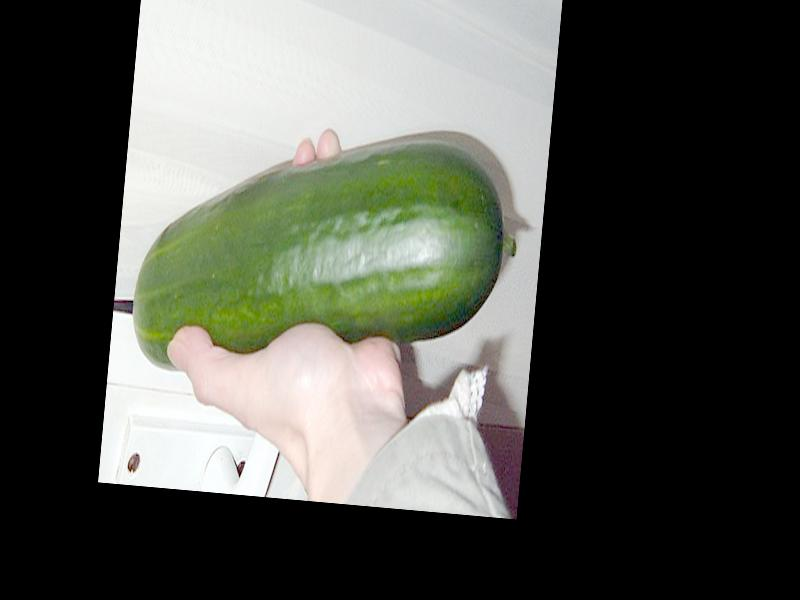Cucumber: (128, 106, 526, 398)
